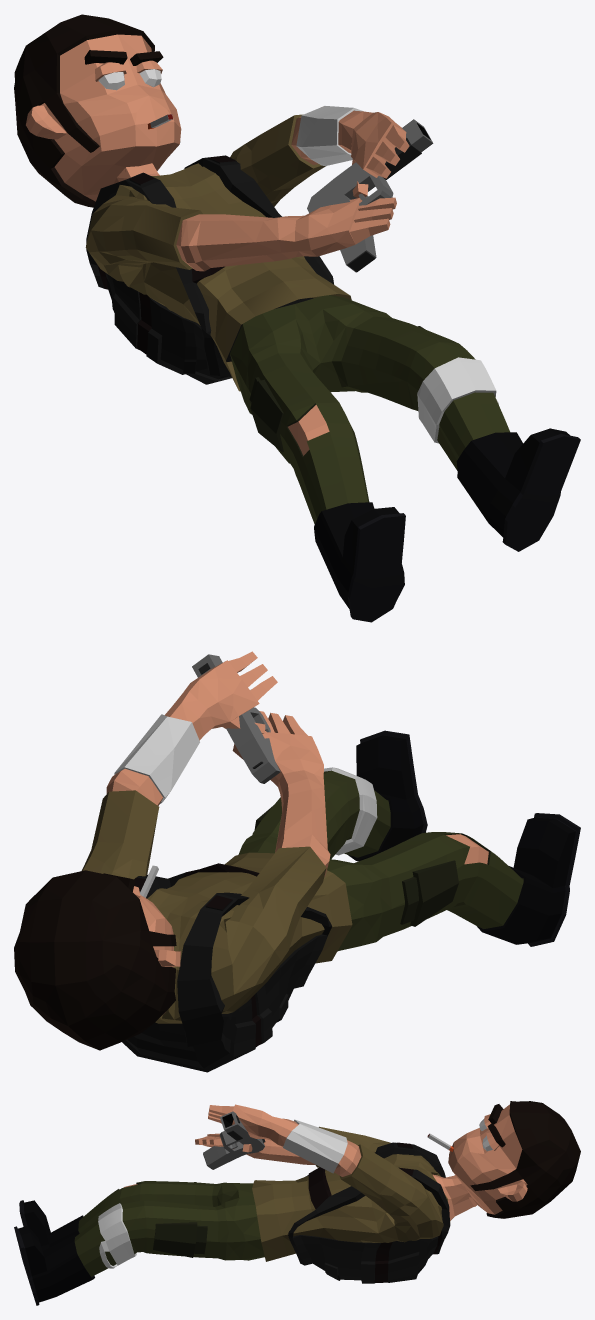
File: frame_0151.obj
3 renders of one model, top to bottom at view 1: azimuth 30°, elevation 25°; view 2: azimuth 150°, elevation 25°; view 3: azimuth 270°, elevation 25°, orthographic. The views are drawn at different scales.
Parts seen in each view (by area): view 1: Body, Gun; view 2: Body, Gun; view 3: Body, Gun.
Boxes of the visible parts, x1,y1,x2,y2 form: Body: (14, 14, 580, 622); Gun: (307, 119, 433, 272); Body: (14, 651, 580, 1072); Gun: (192, 654, 280, 783); Body: (14, 1101, 580, 1305); Gun: (203, 1111, 265, 1169).
Size of the model in its own units: 1.28 by 1.88 by 4.13.
